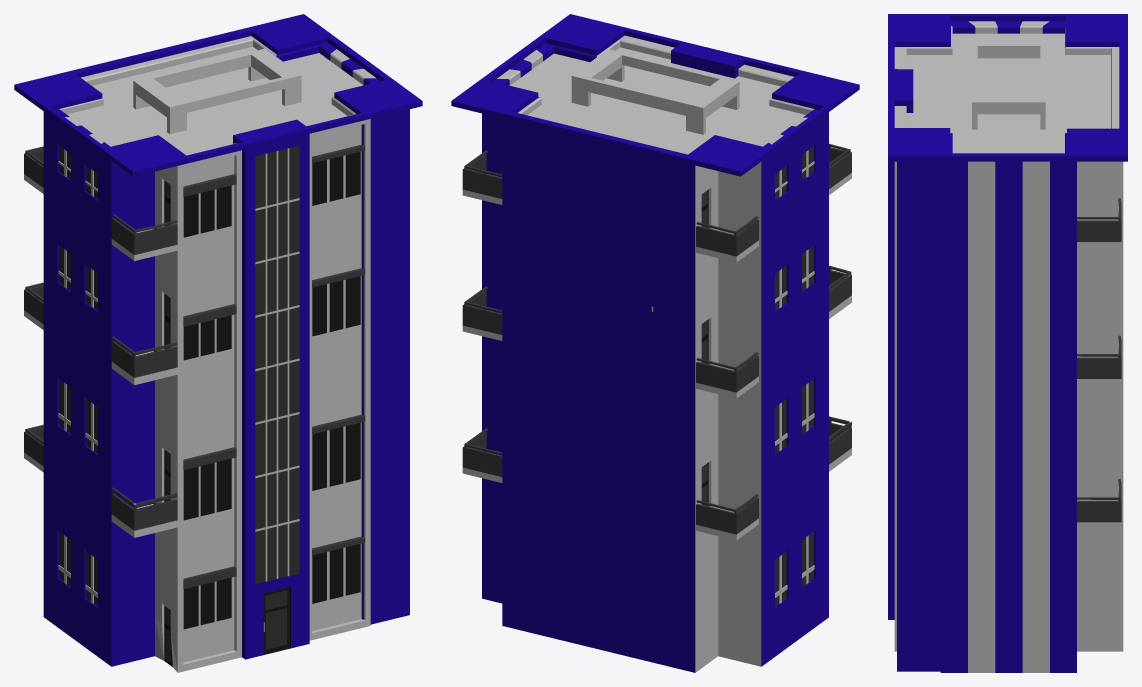
File: apt-10.glb
The picture shows the model from 3 angles, left to right: view 1: azimuth 30°, elevation 25°; view 2: azimuth 150°, elevation 25°; view 3: azimuth 270°, elevation 25°; orthographic projection.
Size of the model in its own units: 2.07 by 3.62 by 1.47.
